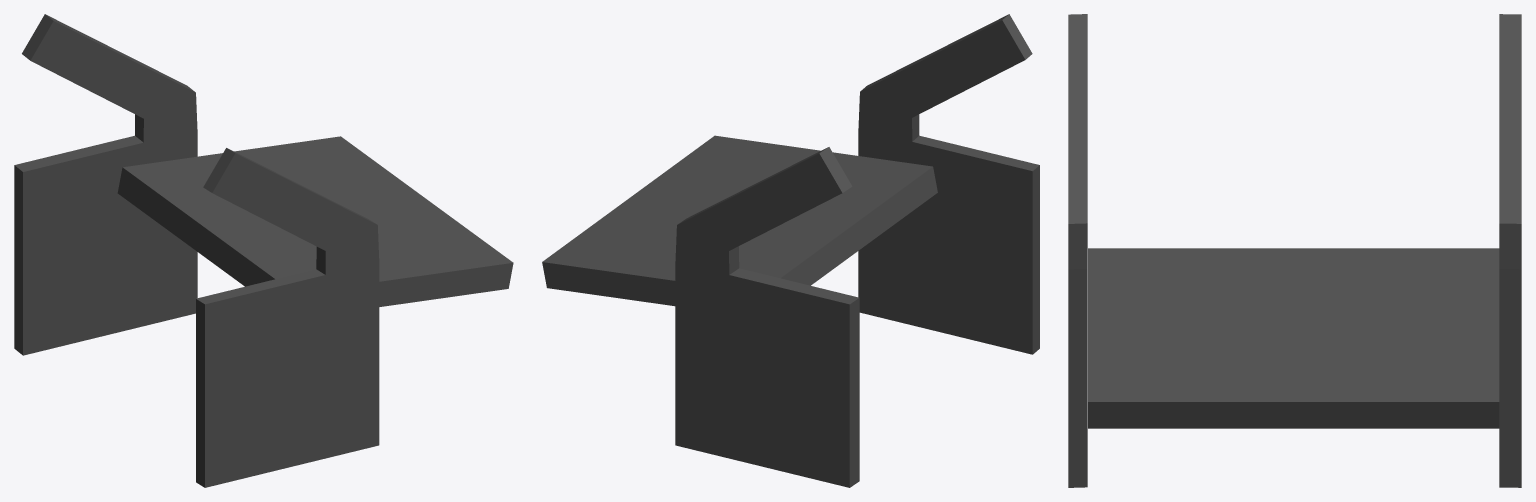
The model's file is CarBones.FBX.
3 renders of one model, left to right at view 1: azimuth 30°, elevation 25°; view 2: azimuth 150°, elevation 25°; view 3: azimuth 270°, elevation 25°, orthographic. The views are drawn at different scales.
Parts seen in each view (by area): view 1: Box003; view 2: Box003; view 3: Box003.
Part boxes in pixels (box(x1,y1,x2,y2)): Box003: box(14, 14, 513, 487); Box003: box(542, 14, 1039, 487); Box003: box(1068, 14, 1521, 487).
Bounding box in the file's own units: 70.97 × 69.82 × 73.61.
Materials: 1 (1 with a texture image).
